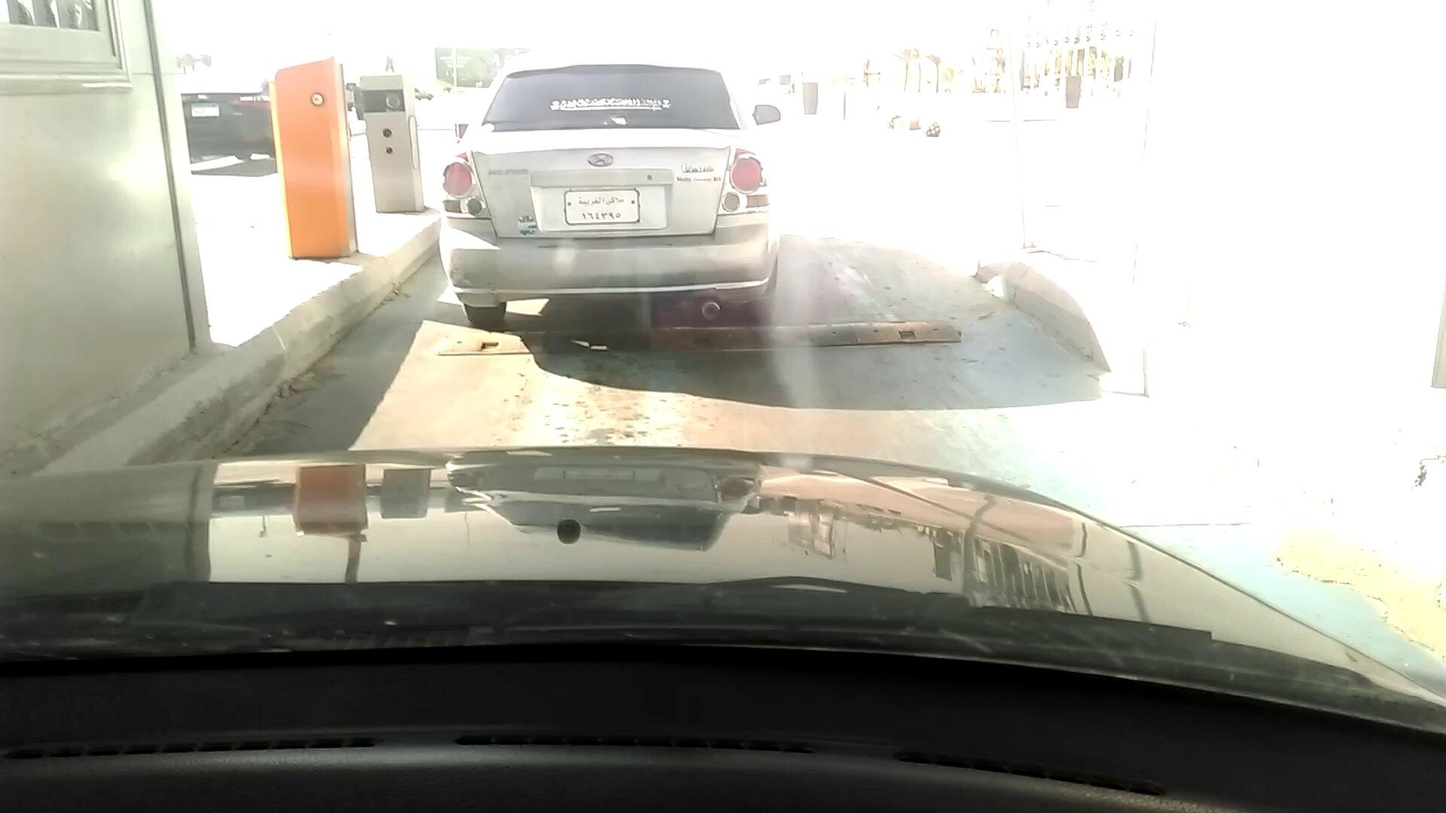Bump: (426, 314, 956, 356)
